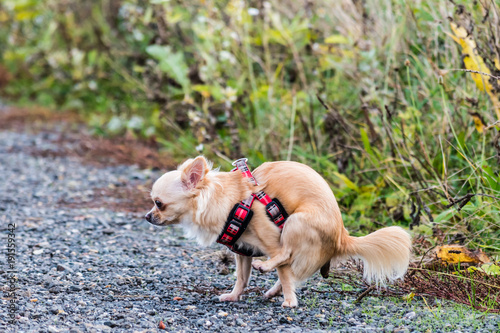dog_pooping: (143, 154, 412, 313)
